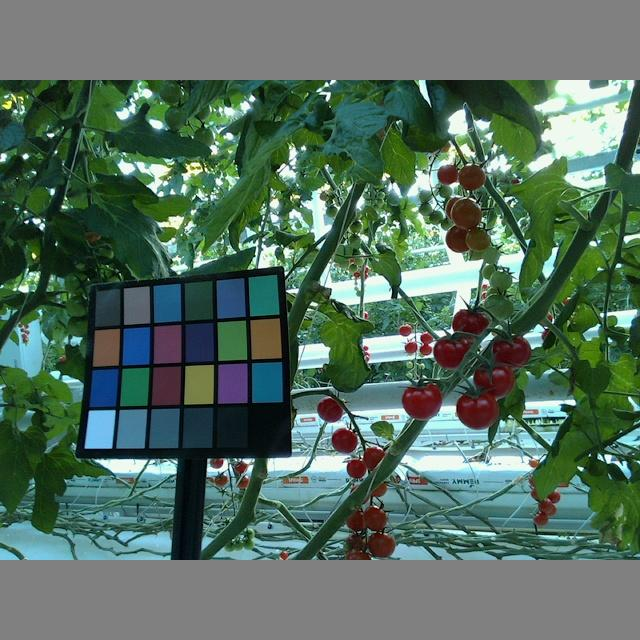green: (480, 292, 516, 323), (485, 266, 512, 292)
pink: (450, 199, 483, 231), (444, 223, 475, 254), (457, 163, 487, 191), (464, 228, 492, 254), (435, 162, 461, 185)
red: (453, 390, 501, 429), (473, 360, 514, 401), (433, 332, 475, 372), (400, 381, 443, 420), (490, 333, 532, 370), (449, 309, 490, 344), (370, 528, 397, 559), (361, 505, 392, 531), (331, 427, 360, 454), (315, 395, 343, 422), (363, 443, 387, 474), (345, 457, 366, 481)
